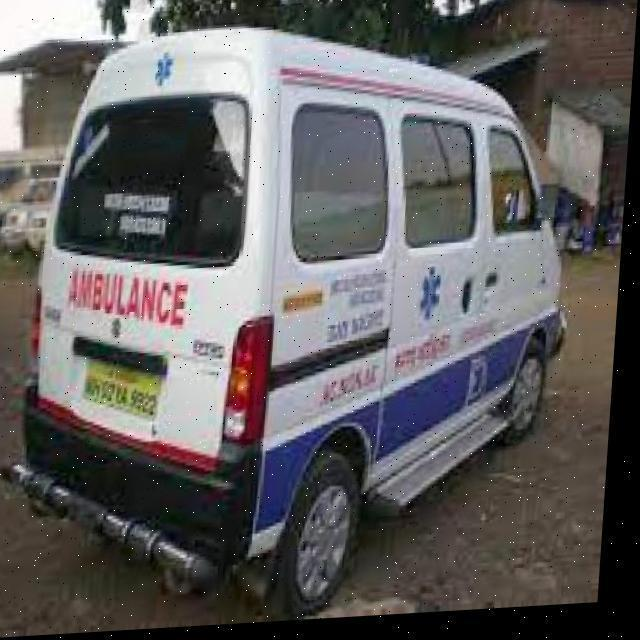Ambulance: (0, 8, 596, 634)
